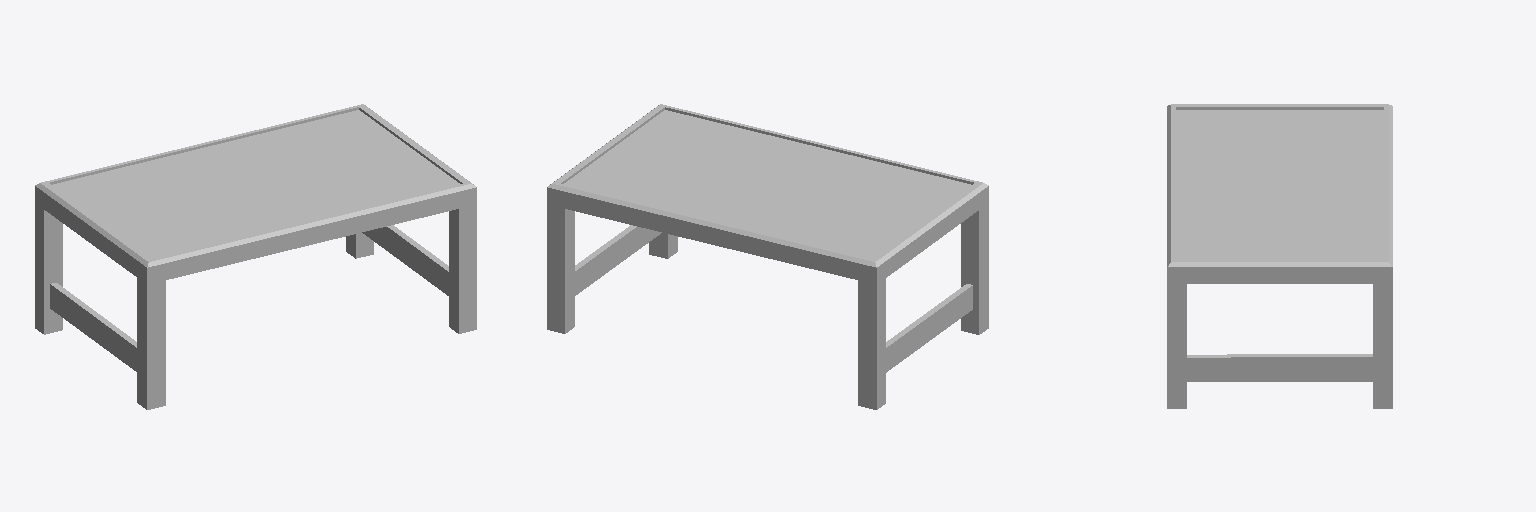
Rendered from WoodenDesk.obj.
3 views of the same model, side by side, from view 1: azimuth 30°, elevation 25°; view 2: azimuth 150°, elevation 25°; view 3: azimuth 270°, elevation 25° (orthographic).
Parts seen in each view (by area): view 1: Cube; view 2: Cube; view 3: Cube.
Boxes of the visible parts, <box> form: Cube: <box>35,104,476,409</box>; Cube: <box>547,104,988,409</box>; Cube: <box>1167,104,1392,408</box>.
Bounding box in the file's own units: 8.18 × 3.45 × 4.83.